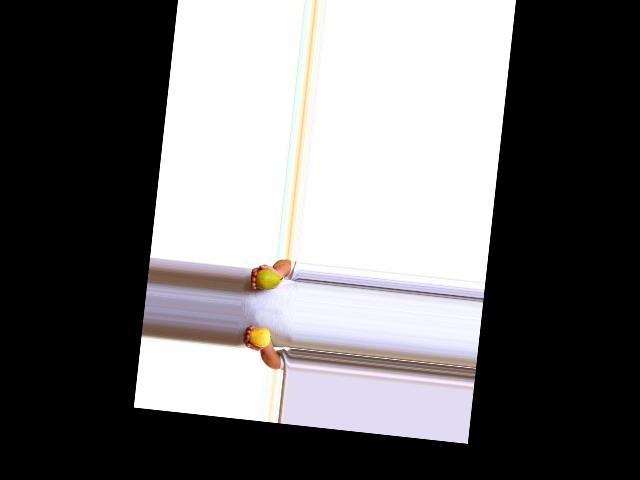apple: (246, 325, 272, 349)
